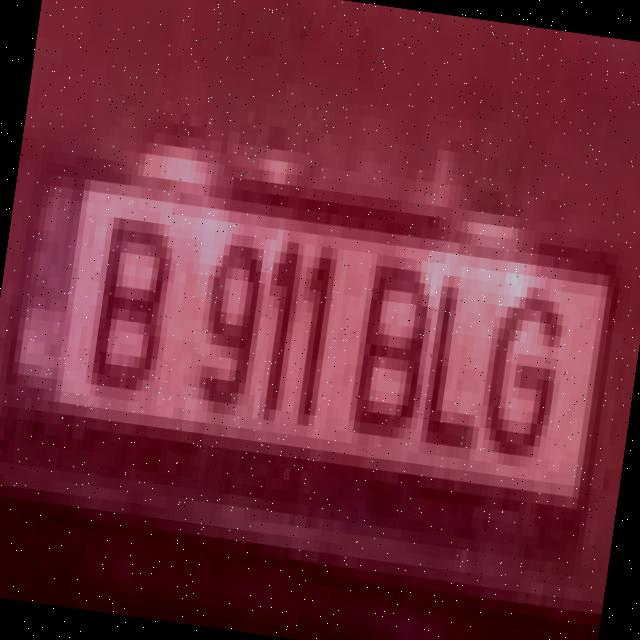Autre: (0, 157, 624, 513)
